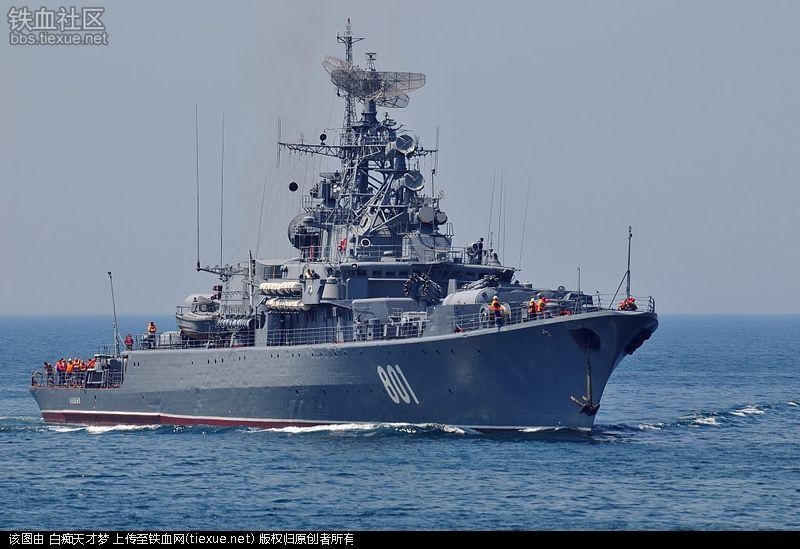warship: (17, 18, 665, 435)
